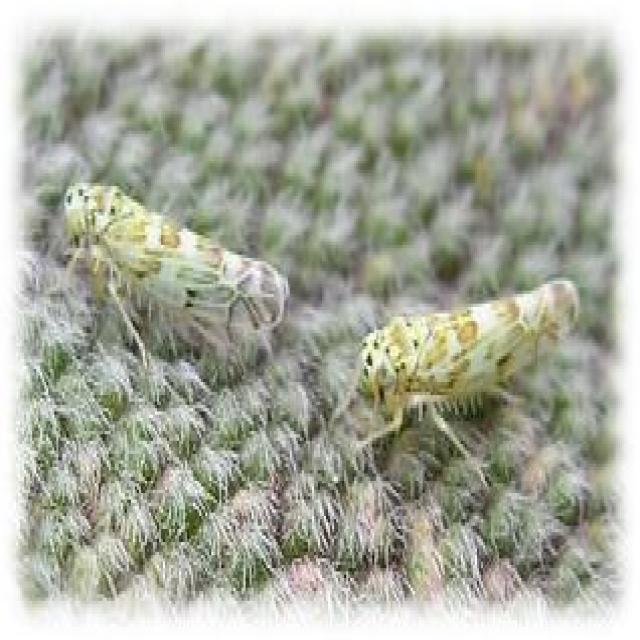Yechan: (54, 178, 294, 354), (341, 275, 582, 429)
